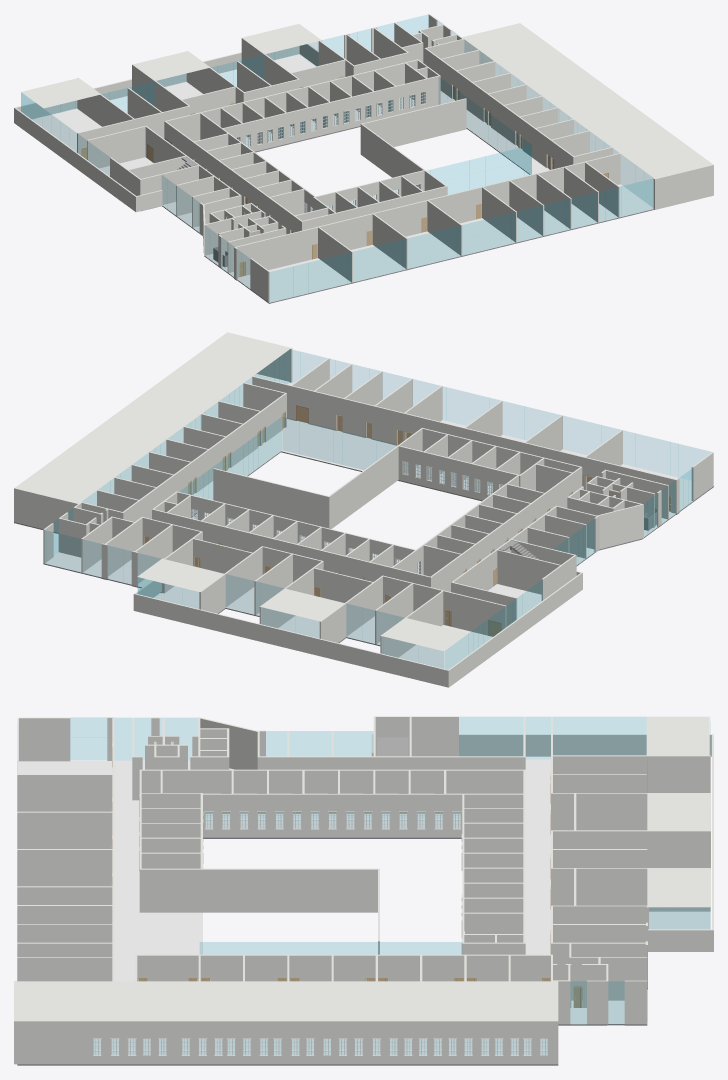
The model's file is 3楼墙体.gltf.
The picture shows the model from 3 angles, top to bottom: view 1: azimuth 30°, elevation 25°; view 2: azimuth 150°, elevation 25°; view 3: azimuth 270°, elevation 25°; orthographic projection. The views are drawn at different scales.
Visible parts, largest first — view 1: 常规 140 - 20+120 [639489] (×2), 常规 [643752], 常规 - 200mm [406510], 常规 - 200mm [405003], 常规 - 200mm [390235], 常规 - 200mm [396545], 常规 - 200mm [392540], 常规 - 200mm [393992], 常规 - 200mm 3 [642145], 常规 - 200mm 3 [642364], 常规 - 200mm [392927], 常规 - 200mm [643322] (+50 smaller); view 2: 常规 140 - 20+120 [639489] (×2), 常规 [643752], 常规 - 200mm [406510], 常规 - 200mm 3 [642364], 常规 - 200mm [390235], 常规 - 200mm [396545], 常规 - 200mm [392540], 常规 - 200mm [393992], 常规 - 200mm [392776], 常规 - 200mm [392927], 常规 - 200mm [394713], 常规 - 200mm [405003] (+51 smaller); view 3: 常规 140 - 20+120 [639489] (×2), 常规 [643752], 常规 - 200mm [644836], 常规 - 200mm [390235], 常规 - 200mm [392927], 常规 - 200mm [396860], 常规 - 200mm [393992], 常规 - 200mm [382158], 常规 - 200mm 3 [642145], 常规 - 200mm [395307], 常规 - 200mm [383719], 常规 - 200mm [422749] (+41 smaller).
Boxes of the visible parts, x1,y1,x2,y2 form: 常规 140 - 20+120 [639489] (×2): (33,54,654,303); 常规 [643752]: (463,24,711,178); 常规 - 200mm [406510]: (234,153,620,277); 常规 - 200mm [405003]: (223,75,440,151); 常规 - 200mm [390235]: (424,48,574,169); 常规 - 200mm [396545]: (166,59,417,141); 常规 - 200mm [392540]: (360,98,466,154); 常规 - 200mm [393992]: (164,121,301,234); 常规 - 200mm 3 [642145]: (14,107,135,211); 常规 - 200mm 3 [642364]: (15,46,299,119); 常规 - 200mm [392927]: (361,124,447,195); 常规 - 200mm [643322]: (655,164,713,209); 常规 140 - 20+120 [639489] (×2): (14,374,713,669); 常规 [643752]: (16,333,289,503); 常规 - 200mm [406510]: (252,376,677,513); 常规 - 200mm 3 [642364]: (133,593,447,687); 常规 - 200mm [390235]: (122,393,286,521); 常规 - 200mm [396545]: (153,509,429,586); 常规 - 200mm [392540]: (213,468,329,528); 常规 - 200mm [393992]: (429,467,581,591); 常规 - 200mm [392776]: (398,445,521,500); 常规 - 200mm [392927]: (329,428,422,528); 常规 - 200mm [394713]: (382,575,506,635); 常规 - 200mm [405003]: (176,491,415,565); 常规 140 - 20+120 [639489] (×2): (17,759,710,1065); 常规 [643752]: (16,981,555,1020); 常规 - 200mm [644836]: (16,1020,555,1064); 常规 - 200mm [390235]: (135,954,552,981); 常规 - 200mm [392927]: (139,868,377,912); 常规 - 200mm [396860]: (203,793,523,837); 常规 - 200mm [393992]: (141,769,525,813); 常规 - 200mm [382158]: (553,755,710,792); 常规 - 200mm 3 [642145]: (459,734,713,756); 常规 - 200mm [395307]: (553,830,710,868); 常规 - 200mm [383719]: (553,868,710,911); 常规 - 200mm [422749]: (259,756,523,769).
Size of the model in its own units: 69.31 by 4.64 by 66.38.
